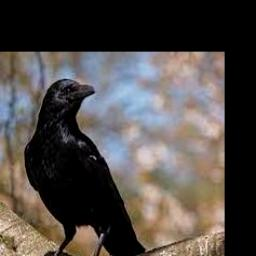Crow: (24, 79, 146, 256)
